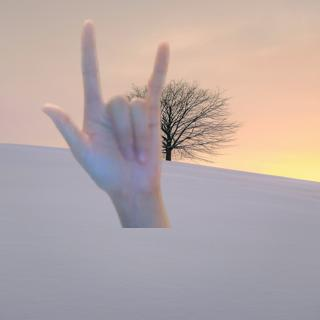ILY: (35, 15, 181, 200)
